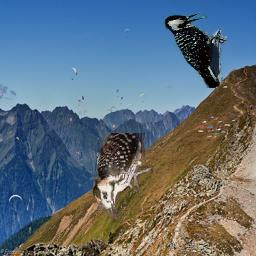Woodpecker: (93, 133, 153, 223), (161, 12, 227, 89)
